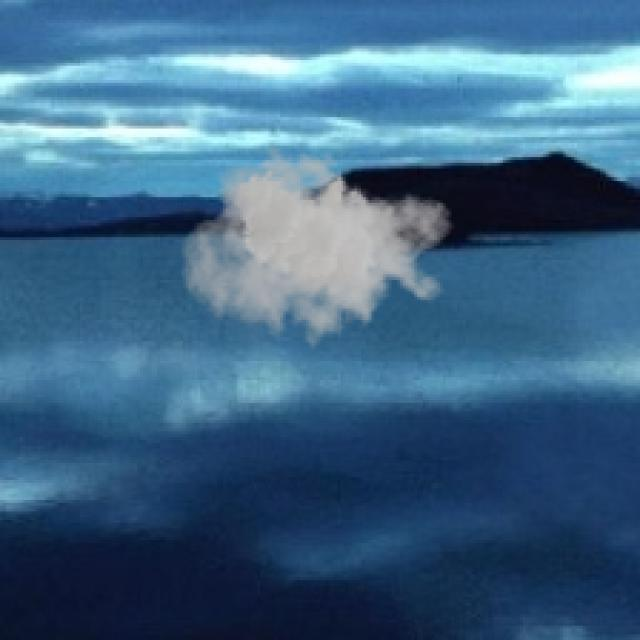Smoke: (180, 146, 454, 360)
